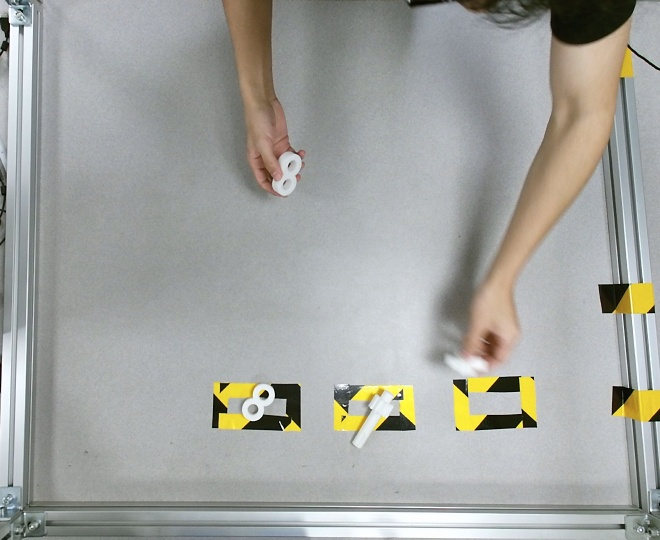stage_1: (271, 152, 302, 195)
